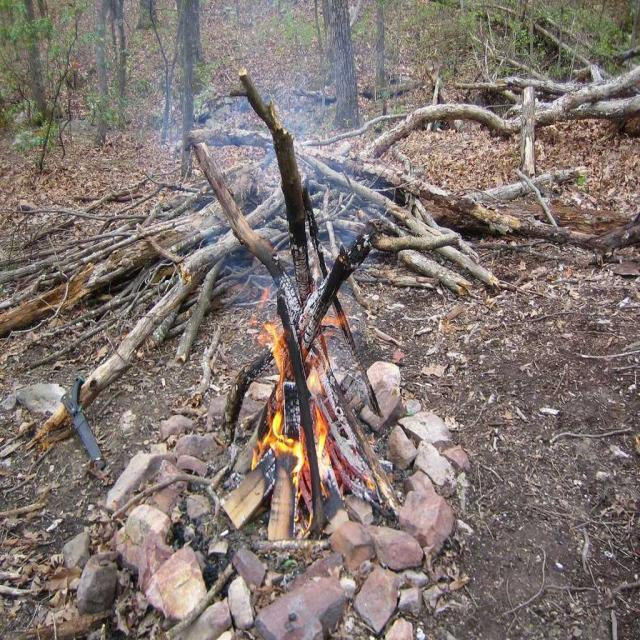Fire: (311, 411, 335, 466), (262, 322, 286, 370), (267, 442, 303, 456)
